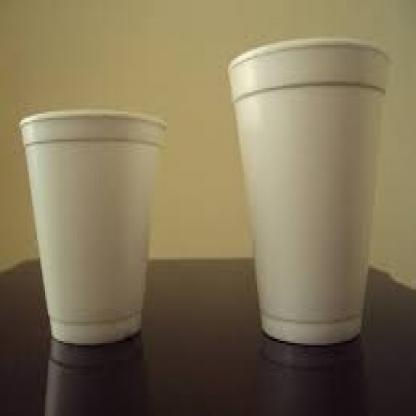trash: (229, 38, 387, 344), (20, 110, 164, 344)
